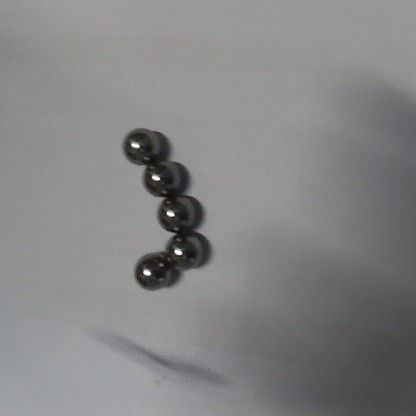ironball: (130, 250, 177, 294), (160, 230, 207, 273), (116, 121, 163, 161), (154, 191, 199, 232), (137, 155, 178, 197)
